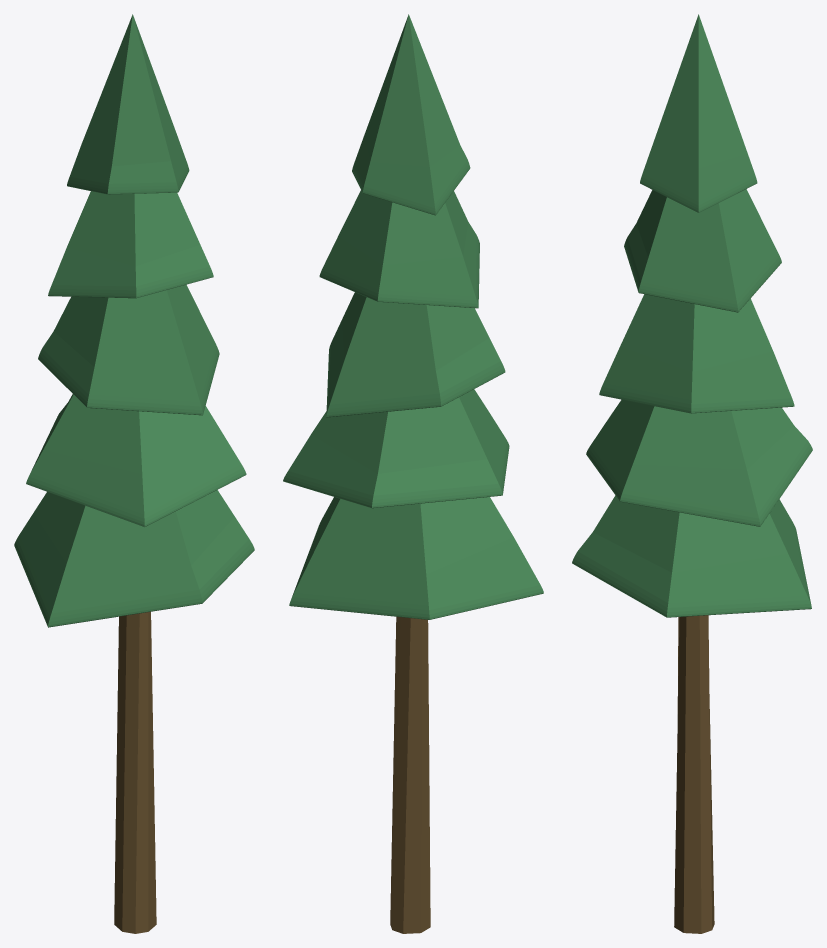
Rendered from Nadelbaum 1.fbx.
3 renders of one model, left to right at view 1: azimuth 30°, elevation 25°; view 2: azimuth 150°, elevation 25°; view 3: azimuth 270°, elevation 25°, orthographic.
Visible parts, largest first — view 1: Kegel_4, Kegel_3, Kegel_2, Kegel_1, stamm, Kegel; view 2: Kegel_4, Kegel_3, Kegel_2, Kegel_1, Kegel, stamm; view 3: Kegel_4, Kegel_3, Kegel_2, Kegel_1, Kegel, stamm.
Part boxes in pixels (left/top/right/bottom): Kegel_4: left=14, top=490, right=254, bottom=627; Kegel_3: left=26, top=394, right=246, bottom=526; Kegel_2: left=38, top=284, right=219, bottom=415; Kegel_1: left=48, top=191, right=213, bottom=298; stamm: left=114, top=611, right=156, bottom=933; Kegel: left=67, top=14, right=189, bottom=194; Kegel_4: left=289, top=497, right=543, bottom=619; Kegel_3: left=283, top=389, right=509, bottom=508; Kegel_2: left=326, top=292, right=505, bottom=417; Kegel_1: left=319, top=190, right=479, bottom=308; Kegel: left=352, top=14, right=470, bottom=215; stamm: left=390, top=616, right=430, bottom=933; Kegel_4: left=572, top=495, right=811, bottom=617; Kegel_3: left=586, top=399, right=812, bottom=526; Kegel_2: left=599, top=294, right=794, bottom=413; Kegel_1: left=624, top=189, right=781, bottom=312; Kegel: left=640, top=14, right=757, bottom=212; stamm: left=674, top=615, right=714, bottom=933.
Size of the model in its own units: 398 by 1601 by 384.
